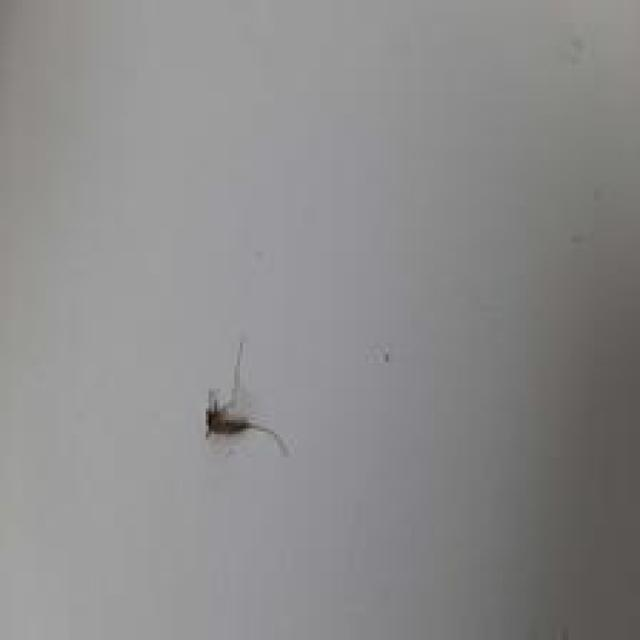Culex: (203, 340, 288, 457)
